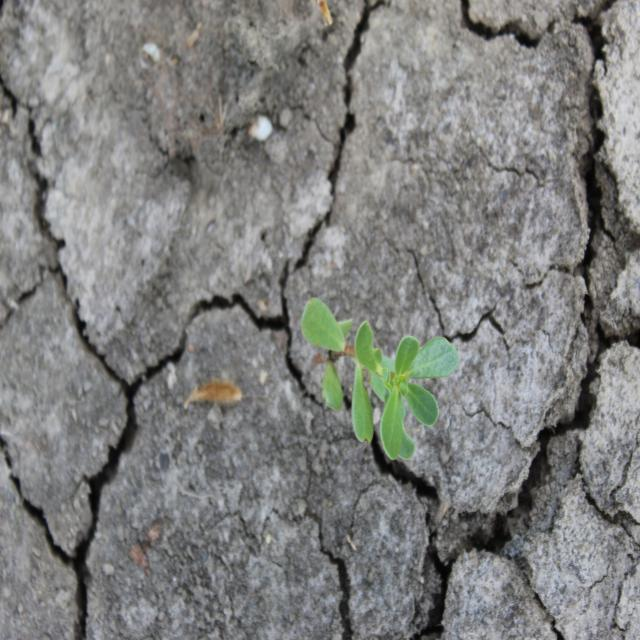Purslane: (300, 296, 461, 462)
